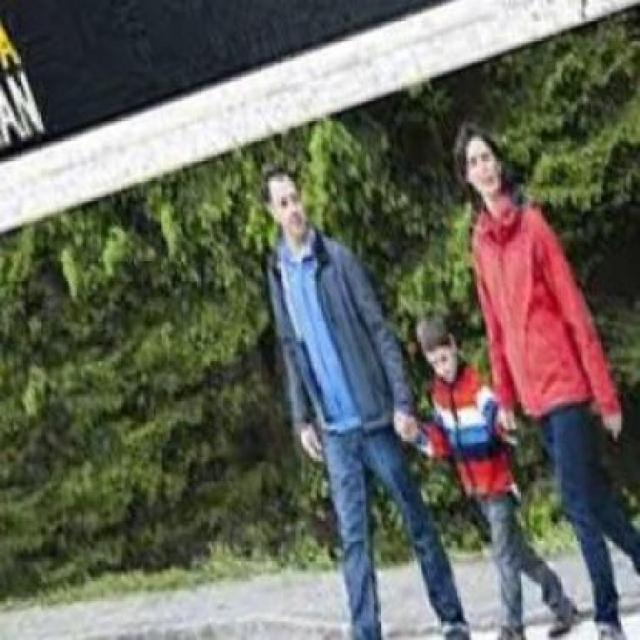Person: (247, 154, 468, 638), (451, 121, 638, 638), (408, 313, 577, 638)
